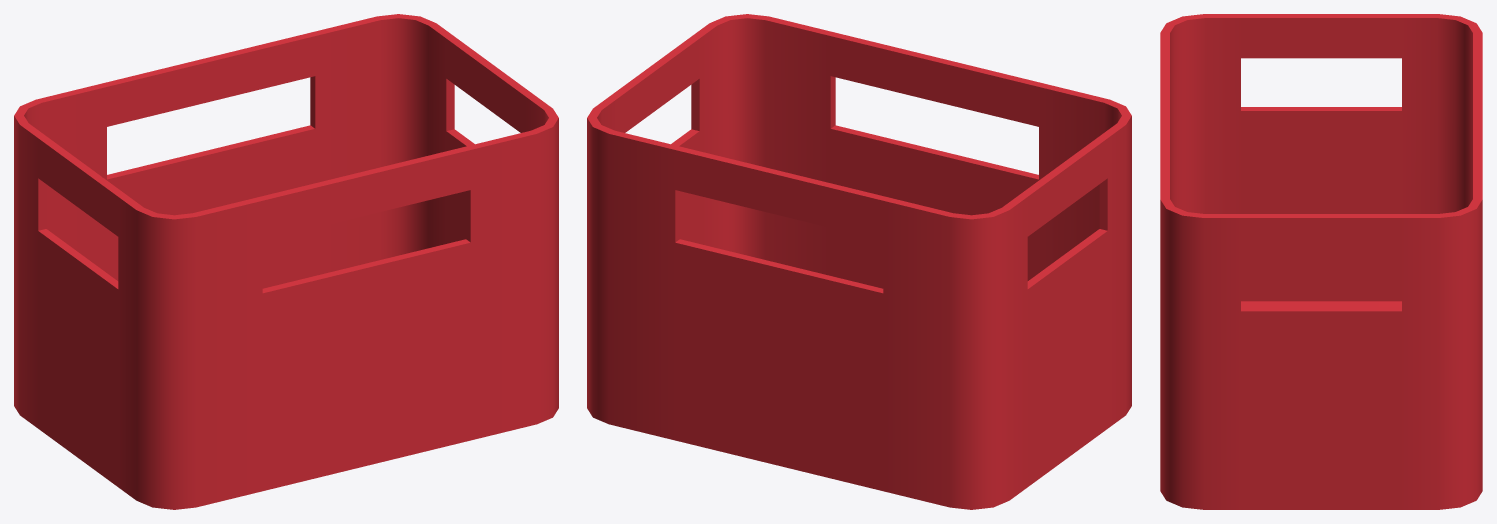
Rendered from PlasticBeerCrate.fbx.
3 renders of one model, left to right at view 1: azimuth 30°, elevation 25°; view 2: azimuth 150°, elevation 25°; view 3: azimuth 270°, elevation 25°, orthographic.
Visible parts, largest first — view 1: Plastic Beer Crate Red; view 2: Plastic Beer Crate Red; view 3: Plastic Beer Crate Red.
Part boxes in pixels (<box>): Plastic Beer Crate Red: <box>14,14,558,509</box>; Plastic Beer Crate Red: <box>587,14,1131,509</box>; Plastic Beer Crate Red: <box>1160,14,1482,509</box>.
Size of the model in its own units: 0.5073 by 0.3382 by 0.3382.
